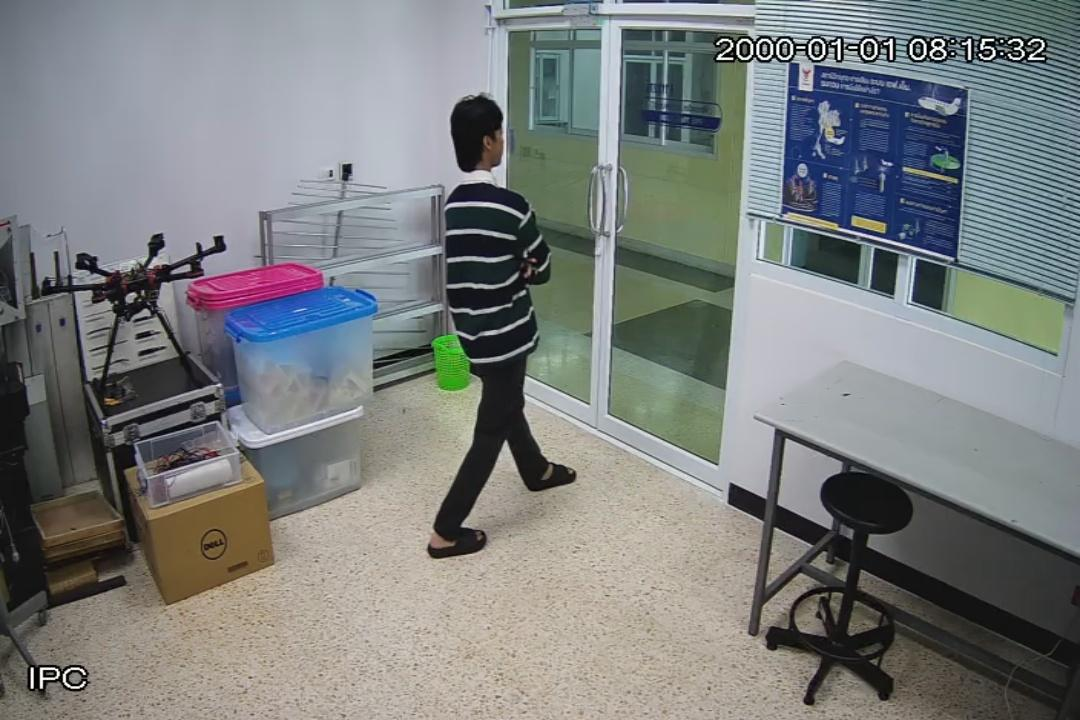normal: (420, 86, 580, 573)
